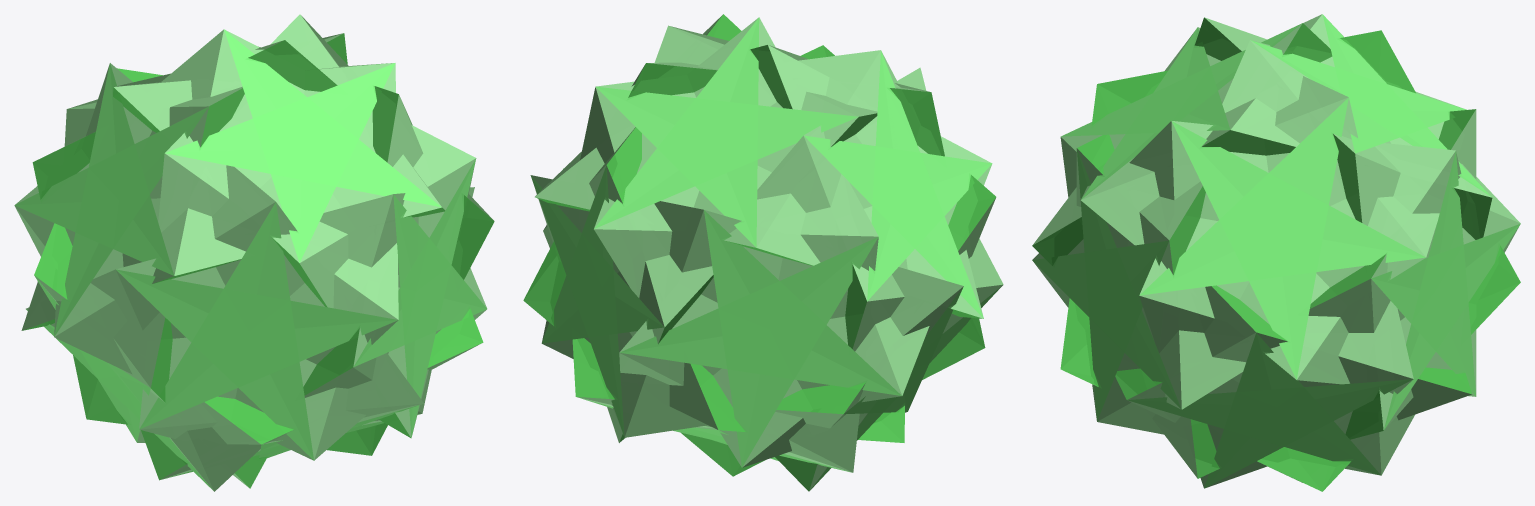
File: InvertedSnubDodecadodecahedron.obj
3 views of the same model, side by side, from view 1: azimuth 30°, elevation 25°; view 2: azimuth 150°, elevation 25°; view 3: azimuth 270°, elevation 25° (orthographic).
Bounding box in the file's own units: 1.69 × 1.69 × 1.69.
